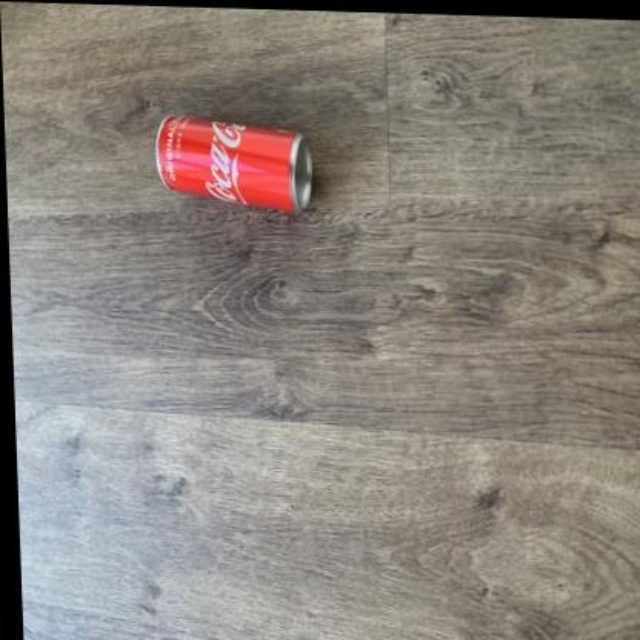trash: (155, 115, 311, 212)
